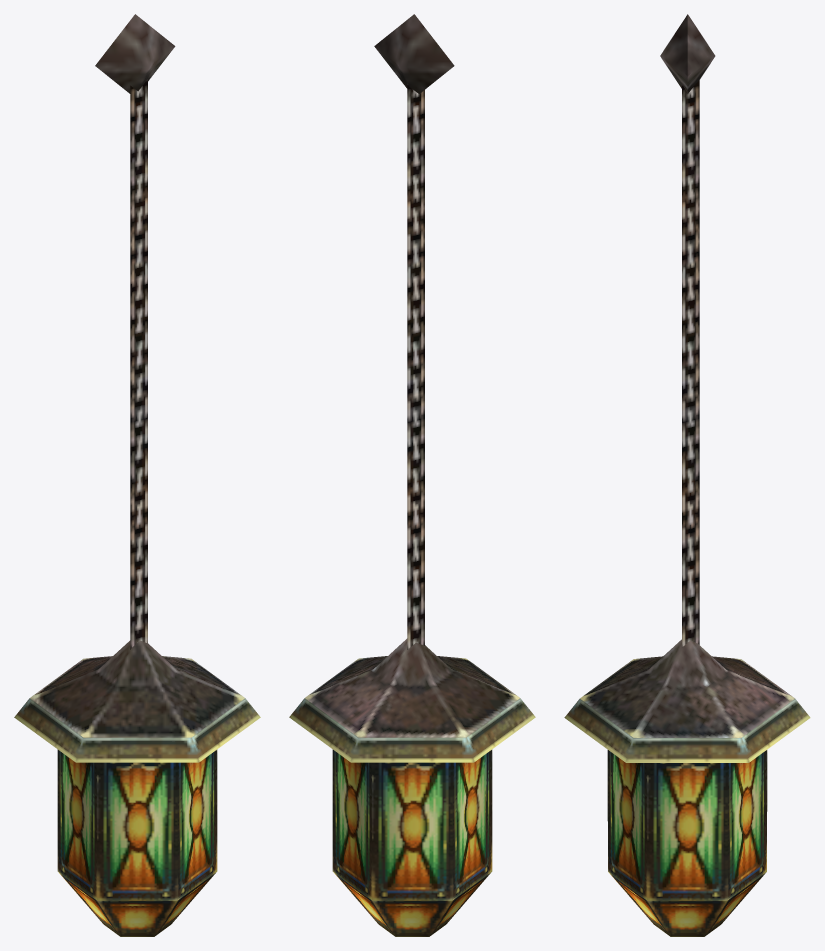
The model's file is loc2_35.glb.
3 renders of one model, left to right at view 1: azimuth 30°, elevation 25°; view 2: azimuth 150°, elevation 25°; view 3: azimuth 270°, elevation 25°, orthographic.
Parts seen in each view (by area): view 1: loc2_35; view 2: loc2_35; view 3: loc2_35.
Boxes of the visible parts, left/top/right/bottom form: loc2_35: left=14, top=14, right=260, bottom=936; loc2_35: left=289, top=14, right=535, bottom=936; loc2_35: left=564, top=14, right=810, bottom=936.
Bounding box in the file's own units: 0.6567 × 3.09 × 0.7583.
Materials: 1 (1 with a texture image).
